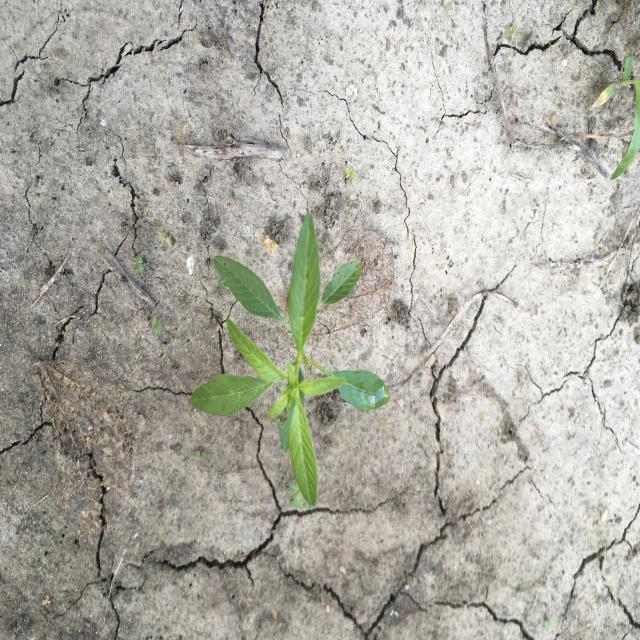Waterhemp: (185, 212, 392, 508)
